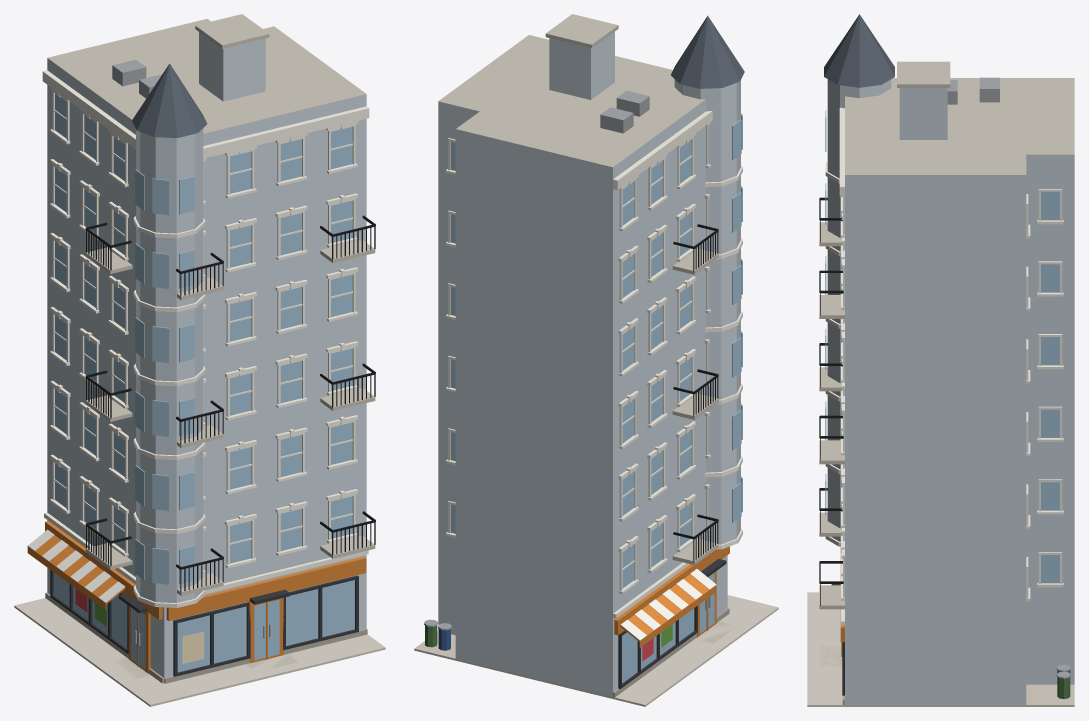
Rendered from Blok_kose_7k_3_Hafif.fbx.
3 views of the same model, side by side, from view 1: azimuth 30°, elevation 25°; view 2: azimuth 150°, elevation 25°; view 3: azimuth 270°, elevation 25° (orthographic).
Visible parts, largest first — view 1: Blok_kose_7k_3_Hafif; view 2: Blok_kose_7k_3_Hafif; view 3: Blok_kose_7k_3_Hafif.
Boxes of the visible parts, left/top/right/bottom form: Blok_kose_7k_3_Hafif: left=14, top=14, right=385, bottom=706; Blok_kose_7k_3_Hafif: left=414, top=14, right=778, bottom=706; Blok_kose_7k_3_Hafif: left=807, top=14, right=1074, bottom=706.
Bounding box in the file's own units: 10 × 24.92 × 10.
